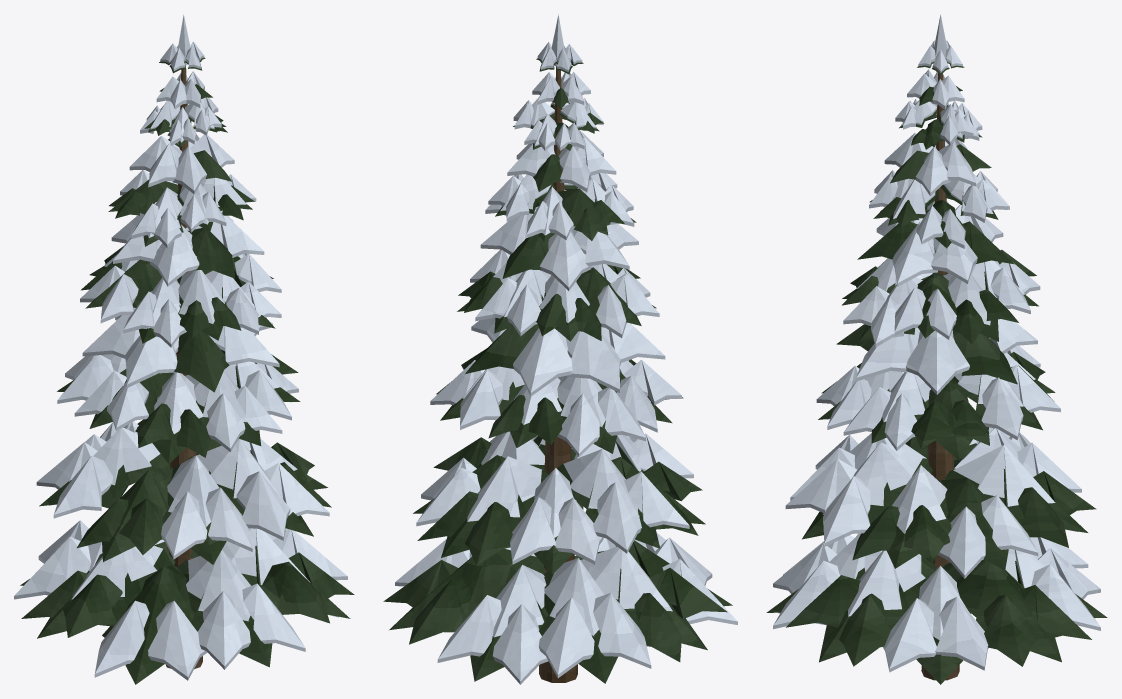
File: tree_snow_01.glb
3 renders of one model, left to right at view 1: azimuth 30°, elevation 25°; view 2: azimuth 150°, elevation 25°; view 3: azimuth 270°, elevation 25°, orthographic.
Parts seen in each view (by area): view 1: tree_snow_01; view 2: tree_snow_01; view 3: tree_snow_01.
Boxes of the visible parts, x1=… form: tree_snow_01: x1=14, y1=14, x2=354, y2=684; tree_snow_01: x1=383, y1=14, x2=737, y2=684; tree_snow_01: x1=766, y1=15, x2=1107, y2=684.
Size of the model in its own units: 3.2 by 6.8 by 3.2.
3 materials, 3 textured.
